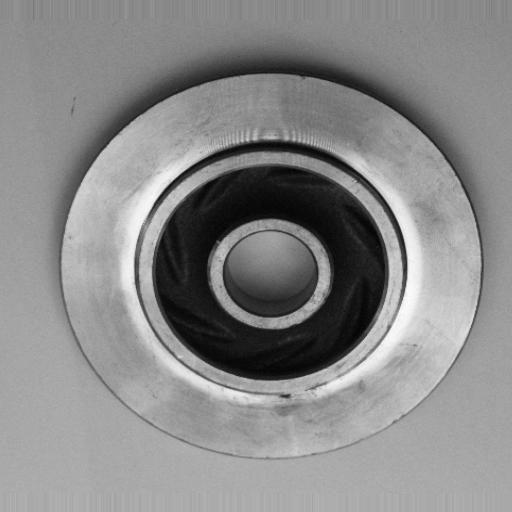scratch: (269, 380, 335, 415)
unpolished_casting: (57, 65, 485, 464)
